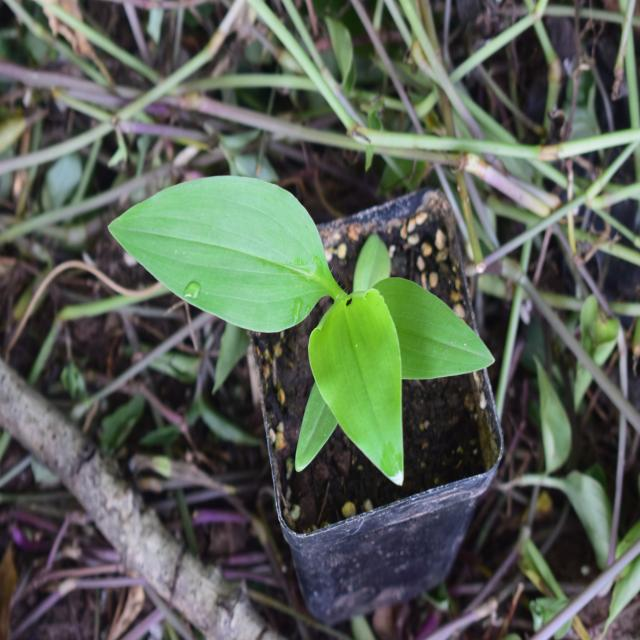Common Dayflower: (100, 155, 482, 500)
